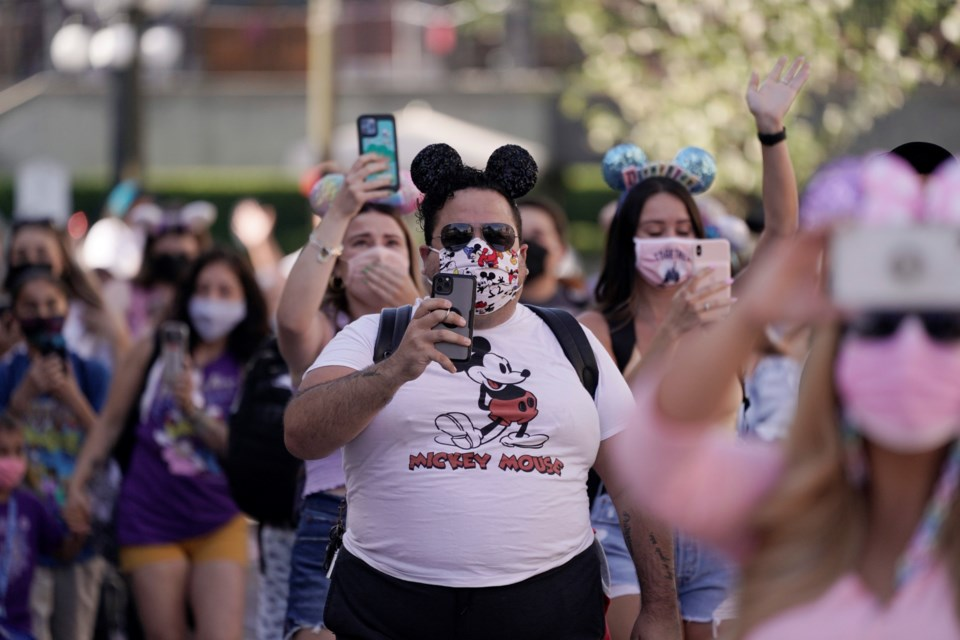with_mask: (431, 209, 522, 306), (346, 224, 409, 306), (633, 209, 698, 281), (192, 274, 242, 333)
